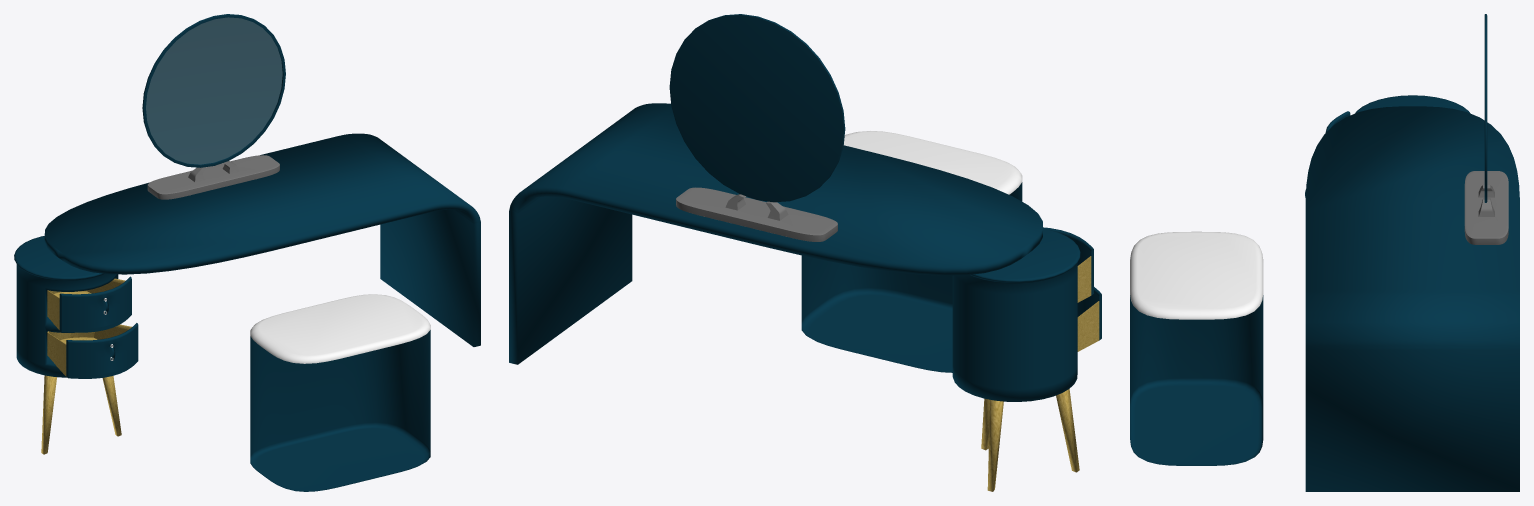
Rendered from dressing_table.glb.
3 views of the same model, side by side, from view 1: azimuth 30°, elevation 25°; view 2: azimuth 150°, elevation 25°; view 3: azimuth 270°, elevation 25° (orthographic). The views are drawn at different scales.
Visible parts, largest first — view 1: table top_5, sitting coushion_4, Mirror _3, drawer table_2, lower drawer_0, lower drawer.001_1; view 2: table top_5, Mirror _3, drawer table_2, sitting coushion_4, lower drawer_0, lower drawer.001_1; view 3: table top_5, sitting coushion_4, Mirror _3, drawer table_2.
Part boxes in pixels (left/top/right/bottom): table top_5: left=44, top=133, right=480, bottom=346; sitting coushion_4: left=250, top=294, right=430, bottom=491; Mirror _3: left=142, top=14, right=285, bottom=199; drawer table_2: left=14, top=236, right=121, bottom=454; lower drawer_0: left=47, top=323, right=138, bottom=378; lower drawer.001_1: left=47, top=276, right=131, bottom=332; table top_5: left=509, top=103, right=1042, bottom=364; Mirror _3: left=669, top=14, right=845, bottom=241; drawer table_2: left=952, top=228, right=1080, bottom=491; sitting coushion_4: left=801, top=131, right=1022, bottom=372; lower drawer_0: left=1077, top=287, right=1101, bottom=351; lower drawer.001_1: left=1043, top=227, right=1093, bottom=302; table top_5: left=1305, top=106, right=1519, bottom=491; sitting coushion_4: left=1130, top=231, right=1263, bottom=465; Mirror _3: left=1464, top=14, right=1508, bottom=244; drawer table_2: left=1355, top=95, right=1470, bottom=113.
Bounding box in the file's own units: 1.52 × 1.24 × 1.08.
7 materials, 3 textured.
